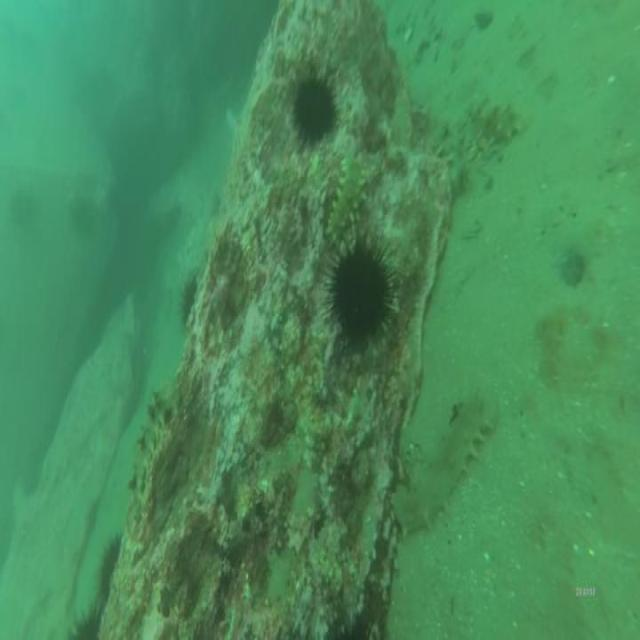echinus: (320, 228, 402, 356), (290, 62, 345, 158)
holothurian: (391, 390, 490, 539), (127, 375, 183, 504), (330, 148, 370, 244), (468, 90, 524, 152)
